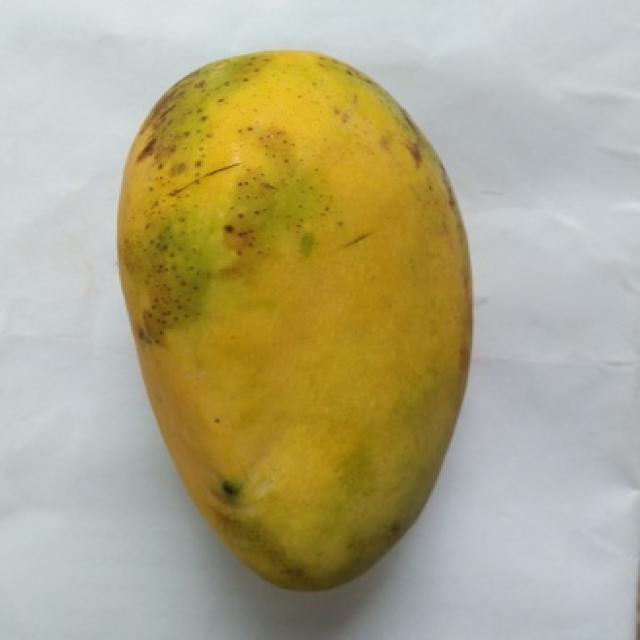Mango: (121, 51, 470, 589)
